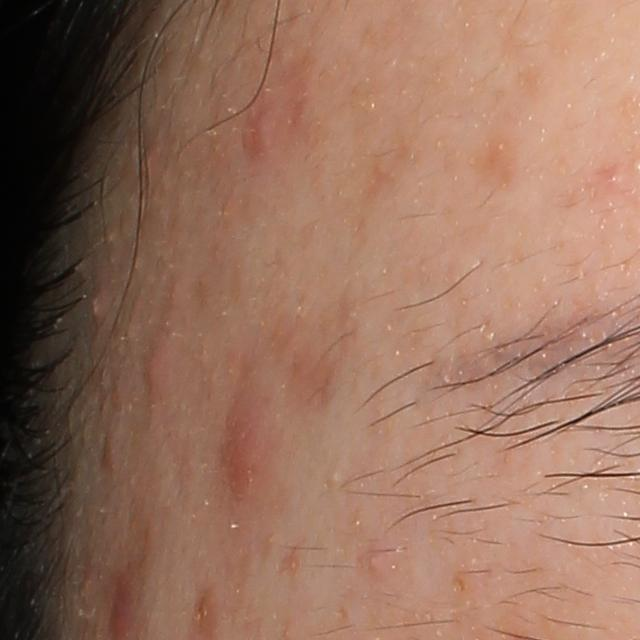papule: (222, 376, 276, 513), (241, 101, 287, 159), (142, 334, 172, 404), (363, 546, 391, 578), (100, 427, 120, 469)
